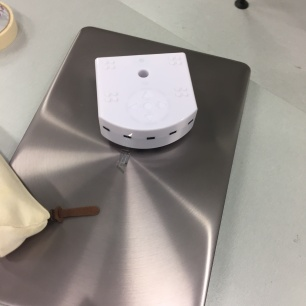thymio: (87, 51, 200, 153)
